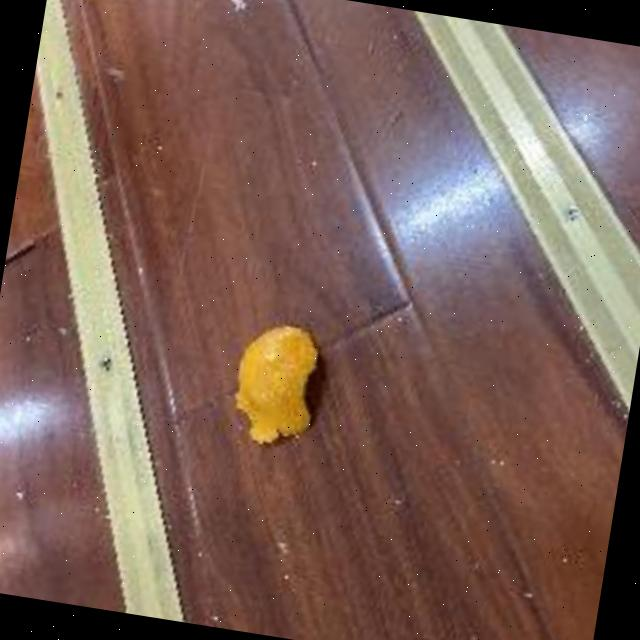orange-peel: (222, 314, 330, 454)
